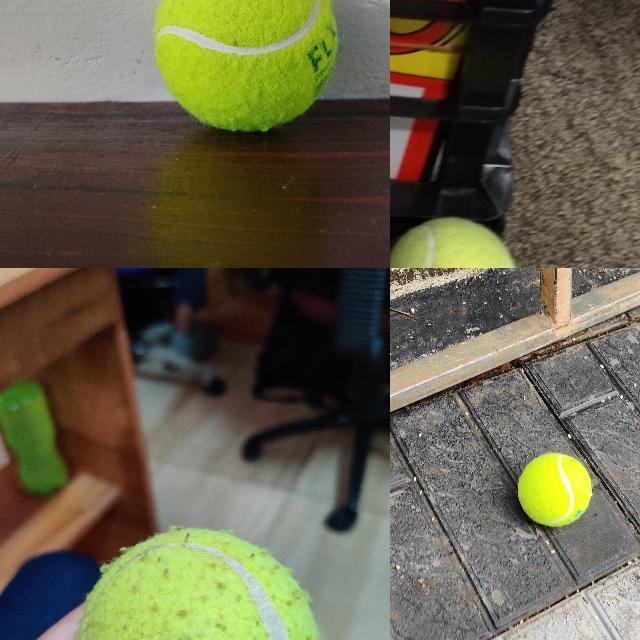tennis-ball: (75, 526, 321, 639), (154, 0, 339, 132), (390, 215, 520, 267), (517, 452, 592, 528)
